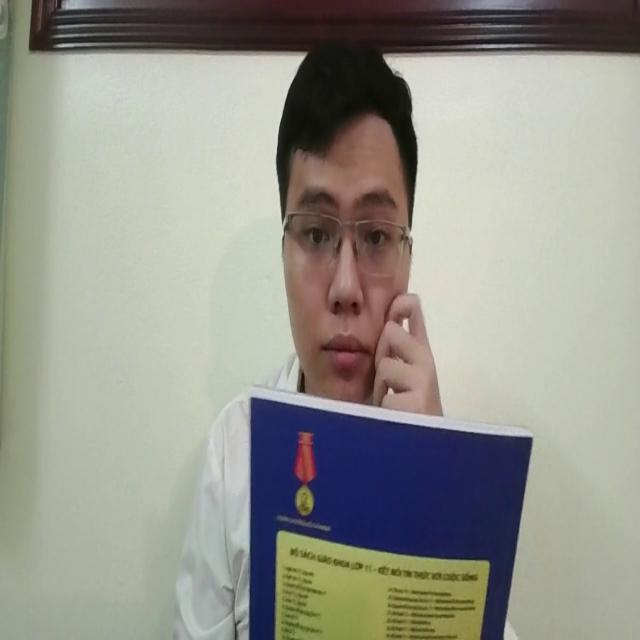book: (247, 377, 533, 639)
student: (263, 38, 445, 429)
